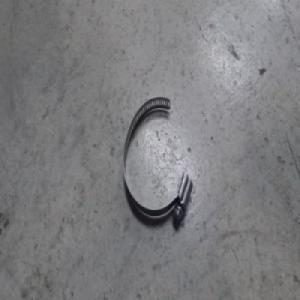AdjustableClamp: (122, 96, 193, 223)
